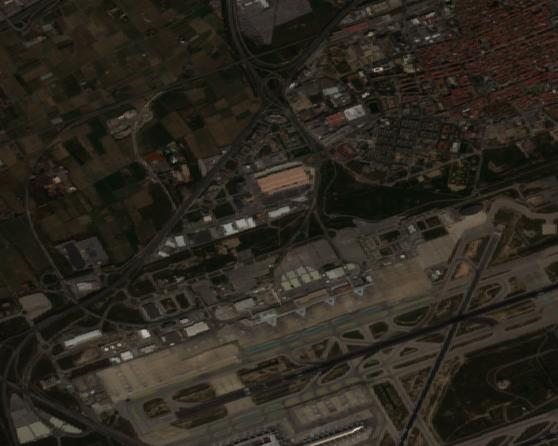Agricola: (1, 1, 261, 226)
Industria: (2, 226, 558, 446)
Poblacion: (261, 1, 558, 226)
